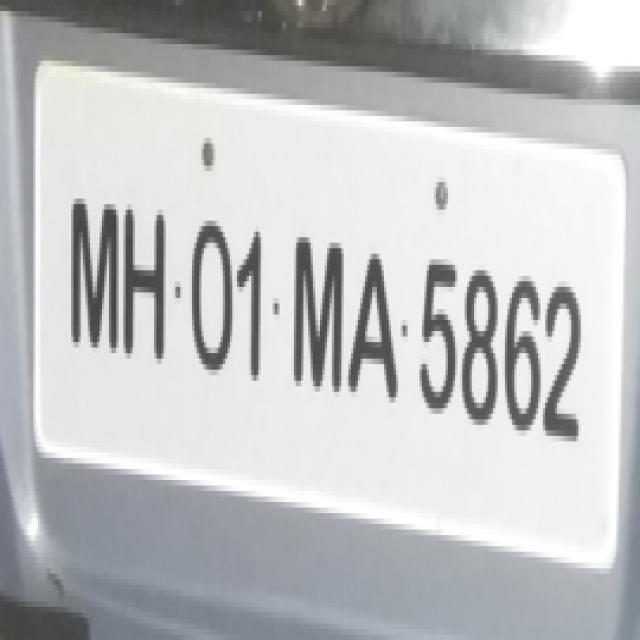0: (188, 207, 236, 371)
1: (234, 233, 270, 395)
5: (419, 242, 459, 433)
6: (506, 270, 544, 433)
8: (460, 261, 502, 427)
A: (349, 250, 402, 424)
H: (123, 202, 167, 360)
M: (65, 181, 122, 377), (292, 224, 344, 412)
